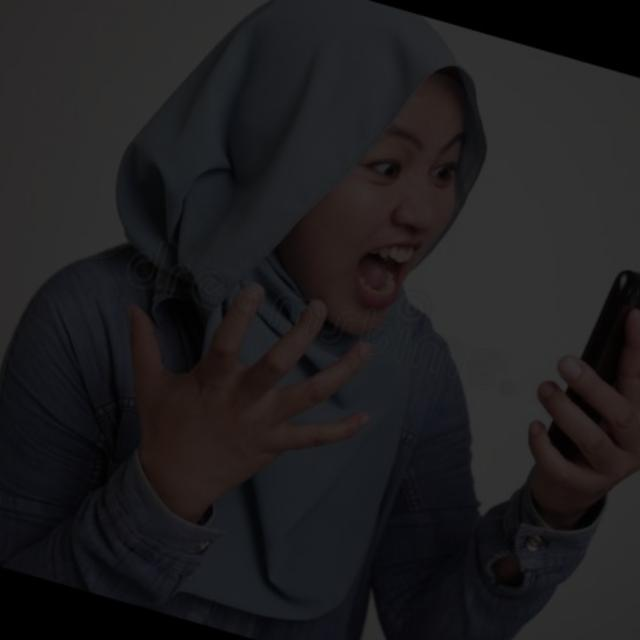angry: (192, 39, 535, 383)
